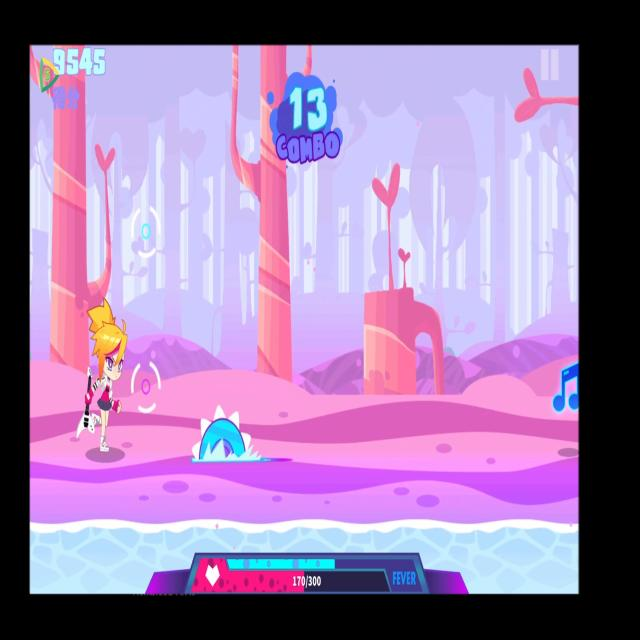Sky Monster - Gear: (185, 391, 262, 488)
